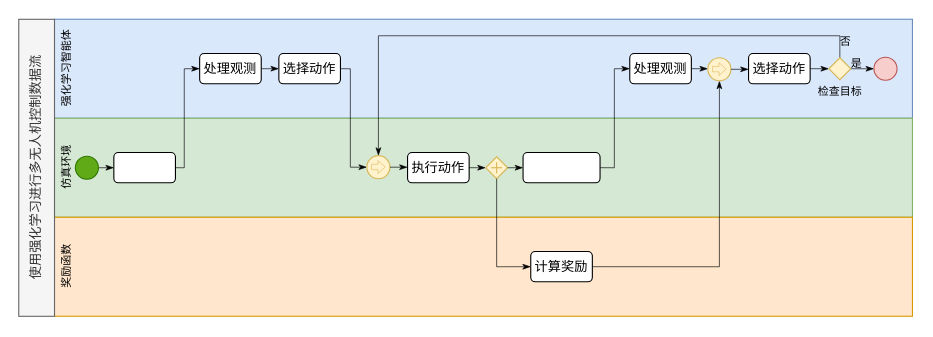
The diagram is 933 pixels wide and 337 high, and some of its shapes have lost their labels. The centre of each missing label's shape, as x and y in pixels:
"获取新状态" belongs at point (561, 167).
"获取状态" belongs at point (144, 167).
